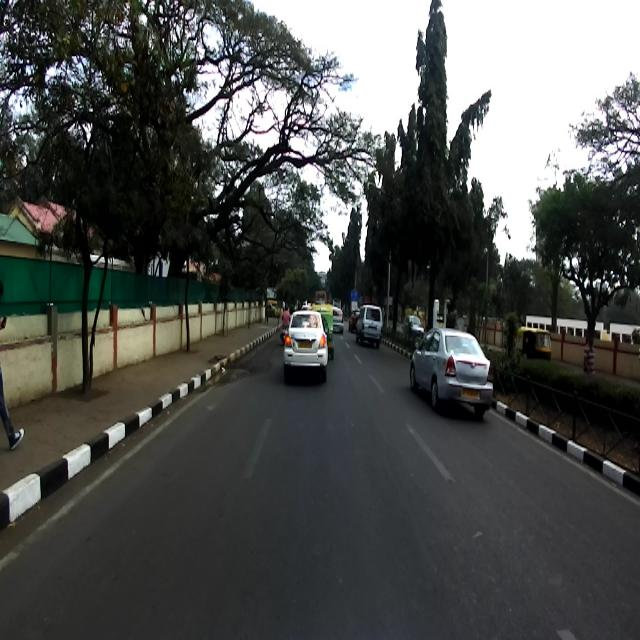Car_Maruti-Suzuki: (281, 309, 329, 382)
Car_Toyota: (409, 325, 493, 416), (354, 302, 386, 345)
